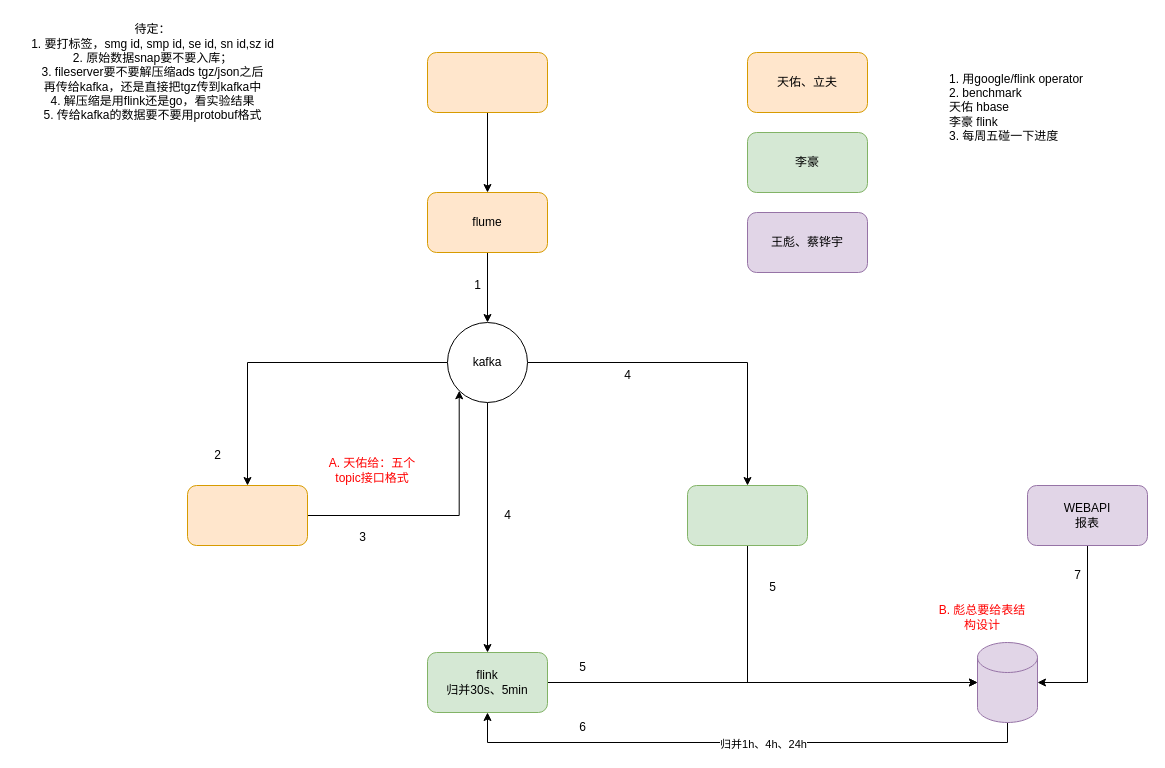
The diagram is 1165 pixels wide and 768 high, and some of its shapes have lost their labels. Here are the shapes that lost their labels. From the top down, the centre of each, then its label:
At pixel 487 82: "fileserver".
At pixel 247 515: "flink/go 解压缩，分成5个topic".
At pixel 747 515: "flink snap入库".
At pixel 1007 682: "hbase".
